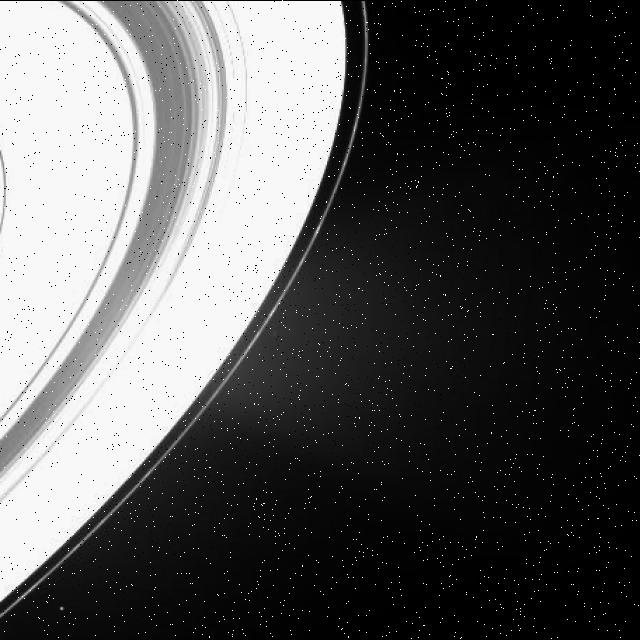Saturn: (0, 0, 372, 640)
